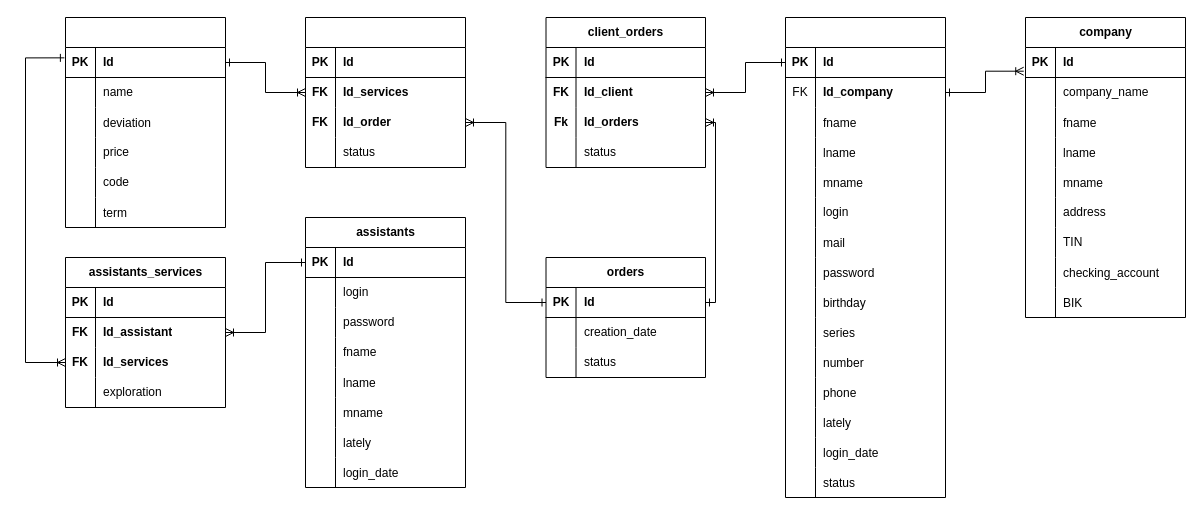
The diagram is 1203 pixels wide and 515 high, and some of its shapes have lost their labels. Each missing label, with the box of its shape:
clients: (784, 16, 946, 498)
ordering_services: (304, 16, 466, 168)
services: (64, 16, 226, 228)
